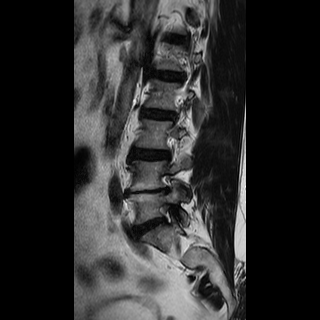LFS1: (152, 198, 176, 231)
